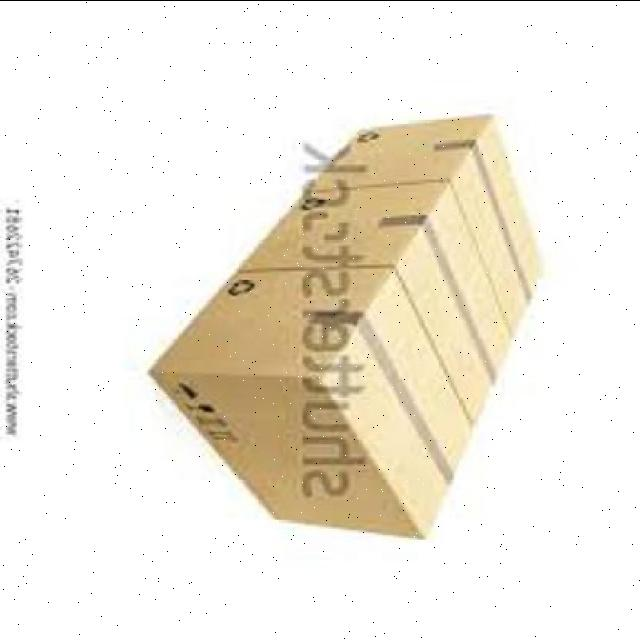normal: (134, 264, 480, 548)
